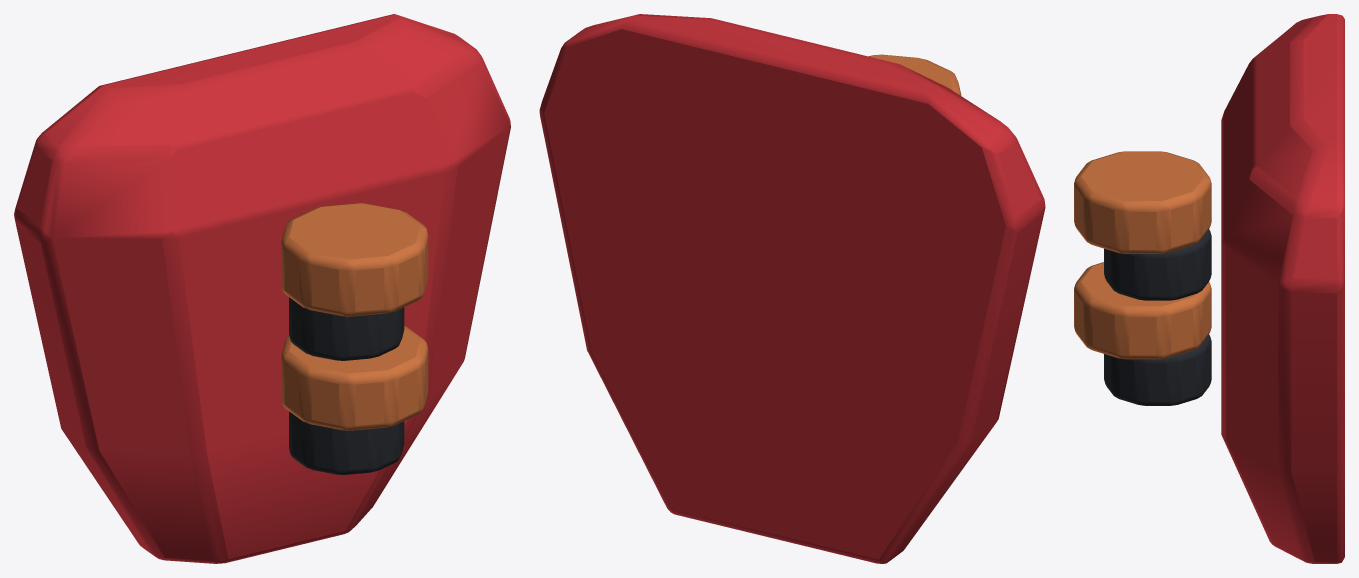
File: HeadBack_Set06_Voltaic.fbx
The picture shows the model from 3 angles, left to right: view 1: azimuth 30°, elevation 25°; view 2: azimuth 150°, elevation 25°; view 3: azimuth 270°, elevation 25°; orthographic projection. The views are drawn at different scales.
Parts seen in each view (by area): view 1: HeadBack_Set06_Voltaic; view 2: HeadBack_Set06_Voltaic; view 3: HeadBack_Set06_Voltaic.
Part boxes in pixels (x1,y1,x2,y2): HeadBack_Set06_Voltaic: (14,14,510,563); HeadBack_Set06_Voltaic: (539,14,1045,563); HeadBack_Set06_Voltaic: (1074,14,1344,563).
Size of the model in its own units: 0.5571 by 0.54 by 0.3022.
